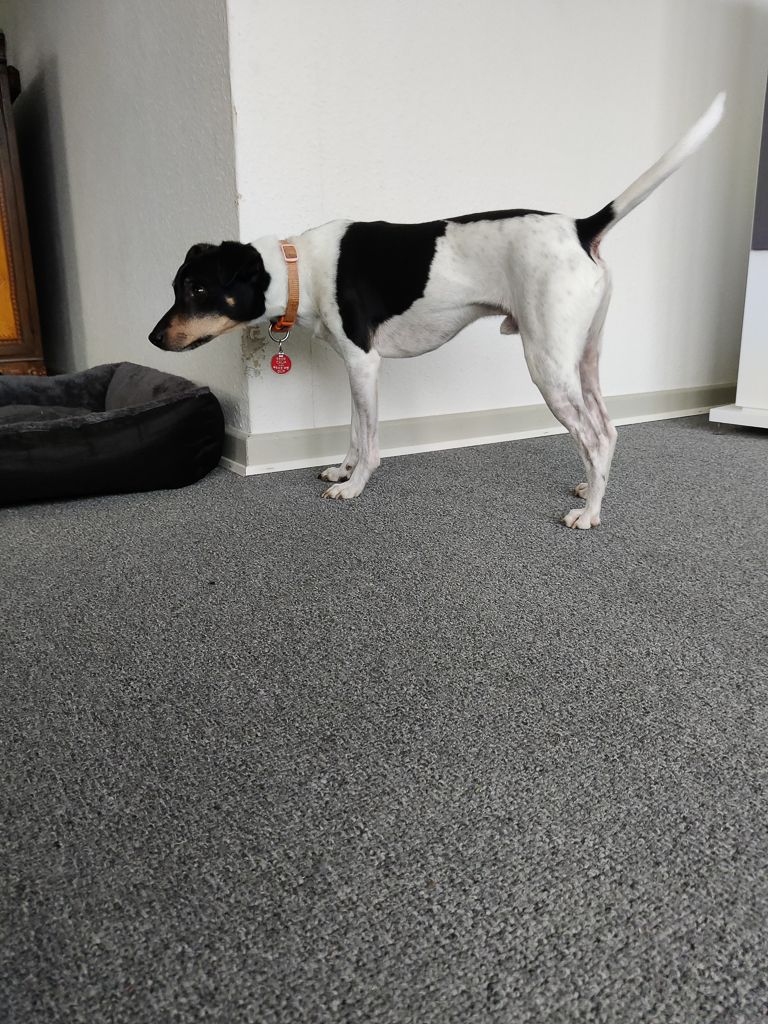Dog: (138, 70, 740, 536)
